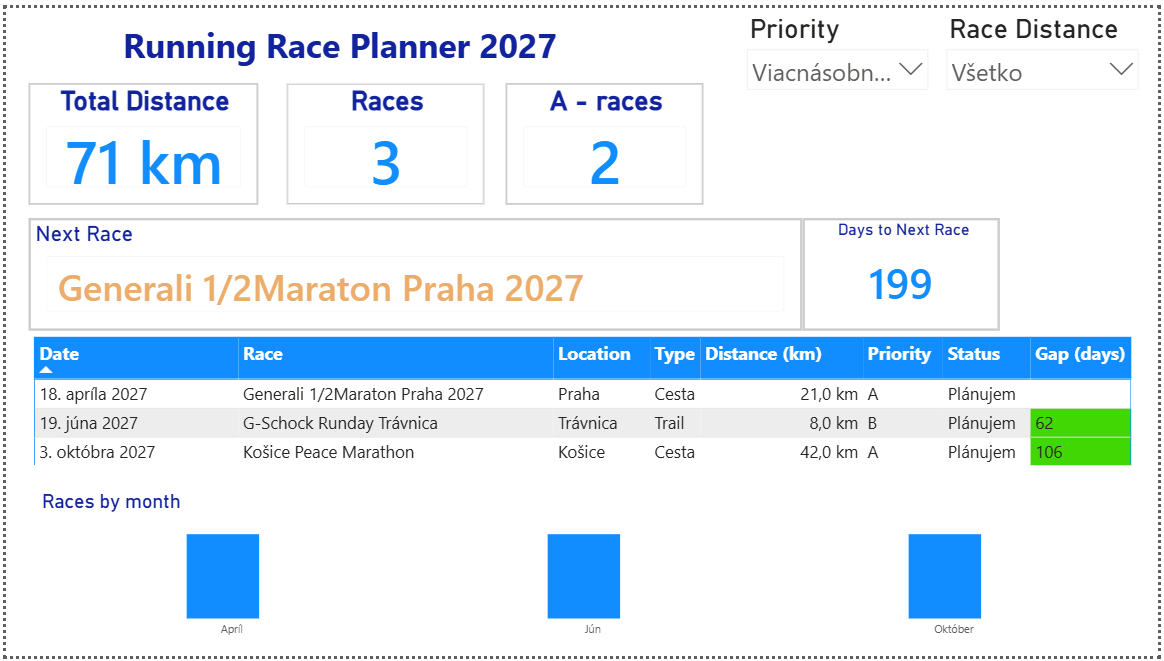

This screenshot's page, from the dashboard's own definition file:
{"tool":"powerbi","page":{"name":"Strana 1","canvas":[1280,720],"ordinal":0},"visuals":[{"type":"cardVisual","title":"Races","fields":{"Data":["CountNonNull(Preteky_2027.ID)"]},"box":[312.2,83.3,220,135],"z":0},{"type":"textbox","box":[76.7,10,588.3,66.7],"z":1000},{"type":"cardVisual","title":"Total Distance","fields":{"Data":["Sum(Preteky_2027.Vzdialenosť_km)"]},"box":[25,83.3,255,135],"z":2000},{"type":"cardVisual","title":"A - races","fields":{"Data":["CountNonNull(Preteky_2027.ID)"]},"box":[555.6,83.3,220,135],"z":3000},{"type":"cardVisual","title":"Next Race ","fields":{"Data":["Preteky_2027.Najblizsi_pretek"]},"box":[25,233.3,860,125],"z":4000},{"type":"cardVisual","title":"Days to Next Race ","fields":{"Data":["Preteky_2027.Do najbližšieho_preteku"]},"box":[885,233.3,219.6,125],"z":5000},{"type":"tableEx","fields":{"Values":["Preteky_2027.Dátum","Preteky_2027.Názov pretekov","Preteky_2027.Miesto","Preteky_2027.Typ","Sum(Preteky_2027.Vzdialenosť_km)","Preteky_2027.Priorita","Preteky_2027.Stav","Sum(Preteky_2027.Odstup_dní)"]},"box":[25,360,1255,175],"z":6000},{"type":"slicer","fields":{"Values":["Preteky_2027.Priorita"]},"box":[813.3,0,221.1,118.1],"z":7000},{"type":"slicer","fields":{"Values":["Preteky_2027.Vzdialenosť_km"]},"box":[1035,0,233.3,118.3],"z":8000},{"type":"clusteredColumnChart","title":"Races by month ","fields":{"Category":["Preteky_2027.Mesiac"],"Y":["CountNonNull(Preteky_2027.ID)"]},"box":[35,535,1233.3,173.3],"z":9000}]}

Visuals, with their boxes in screenshot pixels (x1, y1, x2, y2), scaled from the page's 1280x720 canvas onto the 1164x661 screenshot:
"Races" cardVisual: pyautogui.locateOnScreen(284, 76, 484, 200)
textbox: pyautogui.locateOnScreen(70, 9, 605, 70)
"Total Distance" cardVisual: pyautogui.locateOnScreen(23, 76, 255, 200)
"A - races" cardVisual: pyautogui.locateOnScreen(505, 76, 705, 200)
"Next Race " cardVisual: pyautogui.locateOnScreen(23, 214, 805, 329)
"Days to Next Race " cardVisual: pyautogui.locateOnScreen(805, 214, 1004, 329)
tableEx - Preteky_2027.Dátum x Preteky_2027.Názov pretekov: pyautogui.locateOnScreen(23, 330, 1163, 491)
slicer - Preteky_2027.Priorita: pyautogui.locateOnScreen(740, 0, 941, 108)
slicer - Preteky_2027.Vzdialenosť_km: pyautogui.locateOnScreen(941, 0, 1153, 109)
"Races by month " clusteredColumnChart: pyautogui.locateOnScreen(32, 491, 1153, 650)
